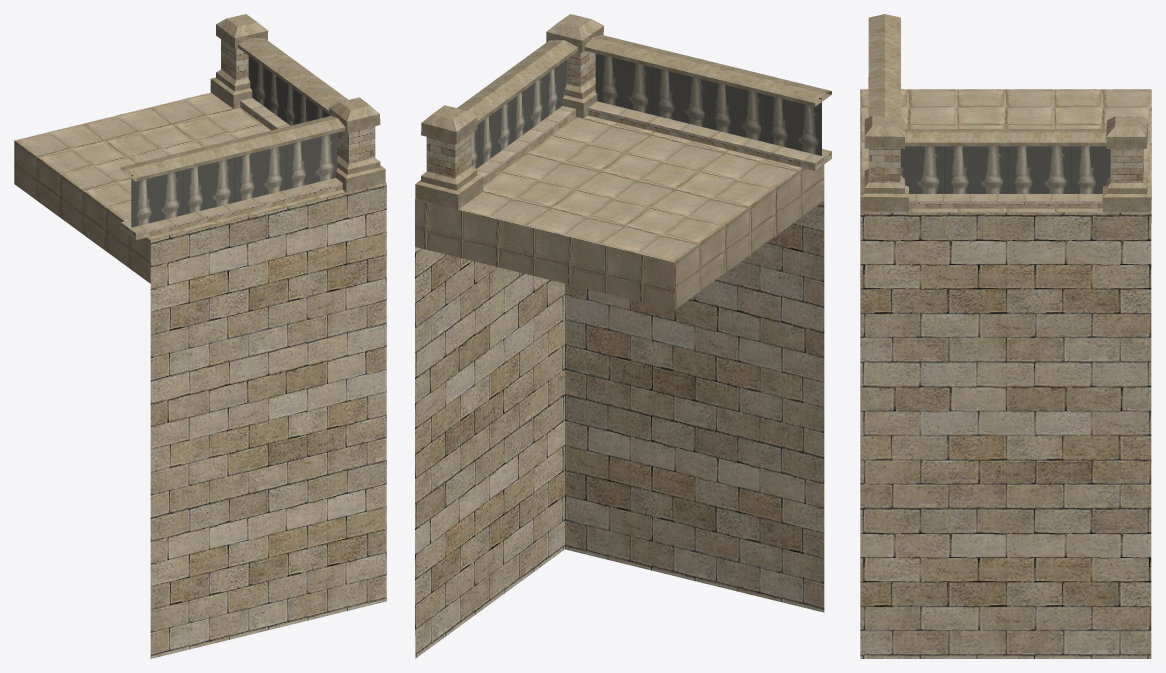
File: thm_nboo_thed_imprv_seawall_corner_s01_l0.fbx
3 renders of one model, left to right at view 1: azimuth 30°, elevation 25°; view 2: azimuth 150°, elevation 25°; view 3: azimuth 270°, elevation 25°, orthographic. The views are drawn at different scales.
Parts seen in each view (by area): view 1: mesh_node; view 2: mesh_node; view 3: mesh_node.
Boxes of the visible parts, left/top/right/bottom form: mesh_node: left=14, top=14, right=386, bottom=658; mesh_node: left=415, top=14, right=831, bottom=658; mesh_node: left=860, top=14, right=1151, bottom=658.
Size of the model in its own units: 3.77 by 7.2 by 3.61.
